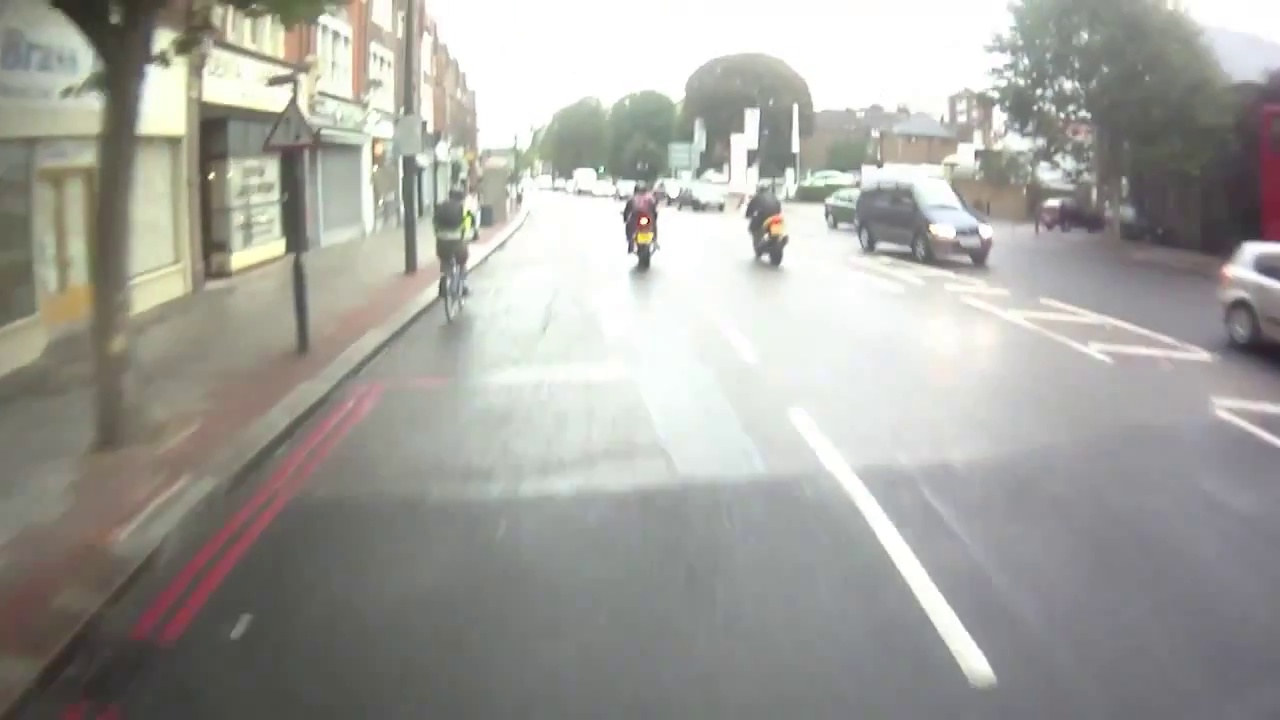cyclist_back: (421, 181, 484, 322), (742, 182, 788, 282), (621, 182, 664, 268)
